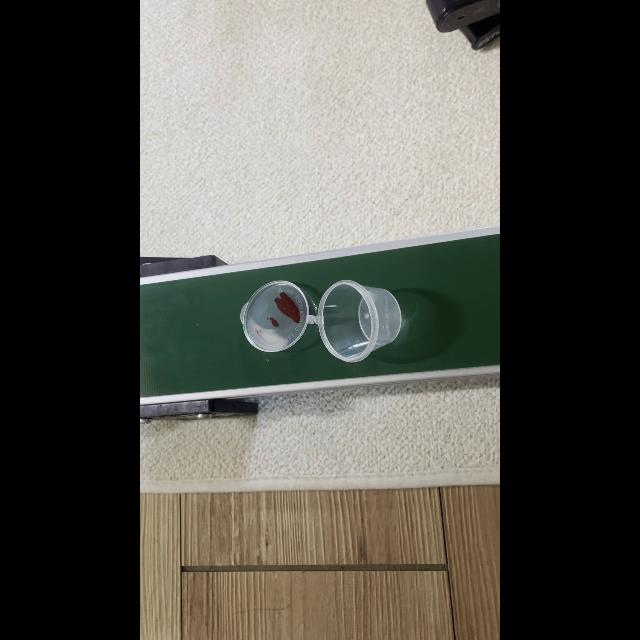dirty: (243, 280, 387, 352)
